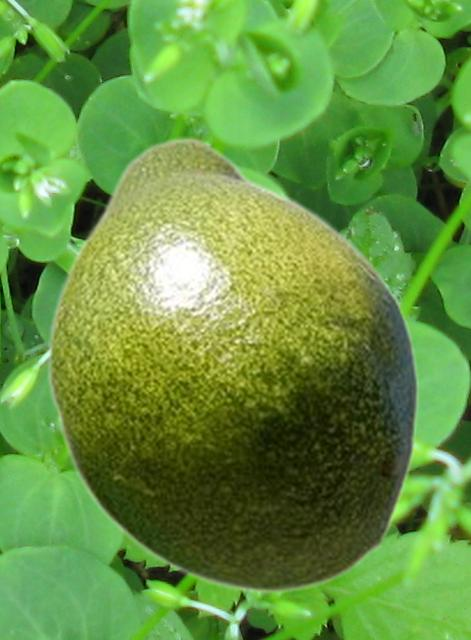avocado: (45, 136, 419, 595)
